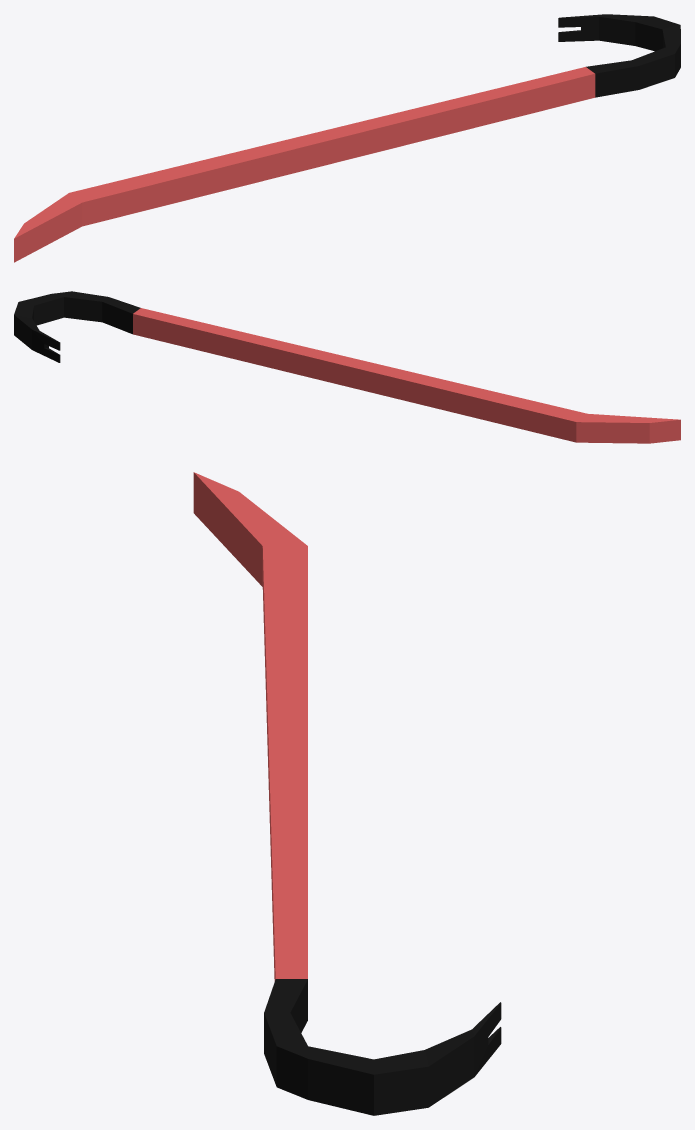
File: Crowbar.fbx
3 views of the same model, one above another, from view 1: azimuth 30°, elevation 25°; view 2: azimuth 150°, elevation 25°; view 3: azimuth 270°, elevation 25° (orthographic). The views are drawn at different scales.
Parts seen in each view (by area): view 1: Cube; view 2: Cube; view 3: Cube.
Boxes of the visible parts, x1=… form: Cube: x1=14, y1=14, x2=680, y2=262; Cube: x1=14, y1=291, x2=680, y2=443; Cube: x1=193, y1=472, x2=501, y2=1115.
Size of the model in its own units: 6283 by 210 by 1355.
